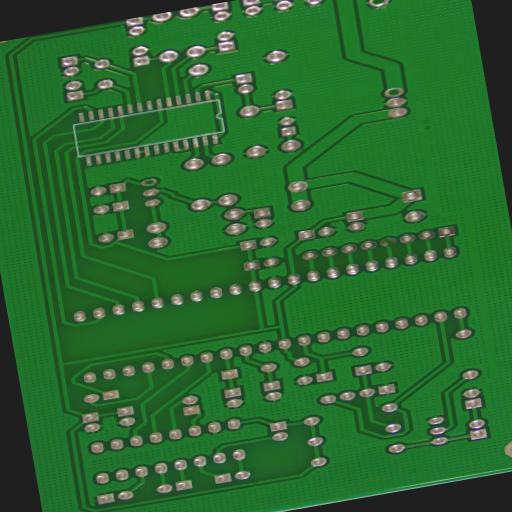missing_hole: (382, 84, 404, 98), (137, 176, 158, 188), (365, 0, 392, 9)
